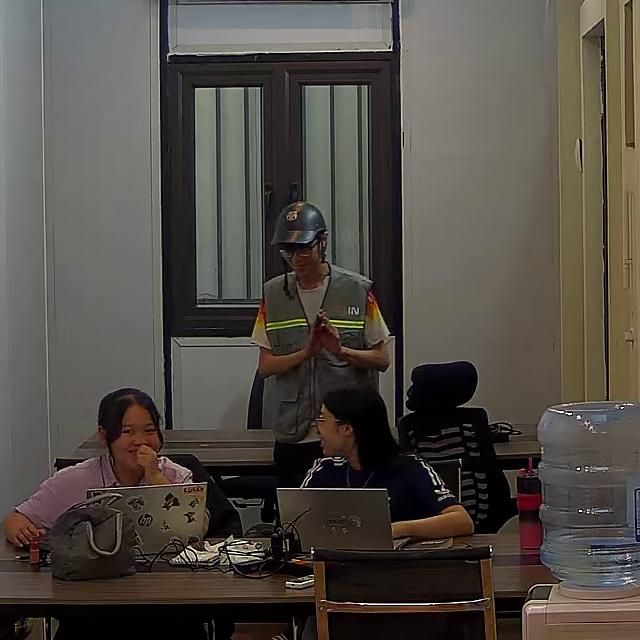helmet: (269, 201, 330, 247)
no_helmet: (321, 386, 397, 472), (97, 388, 163, 455)
none: (12, 454, 195, 535), (295, 450, 459, 532)
vest: (261, 266, 370, 440)
